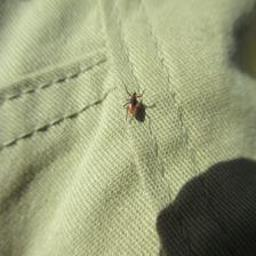Ixodes scapularis: (121, 87, 146, 120)
